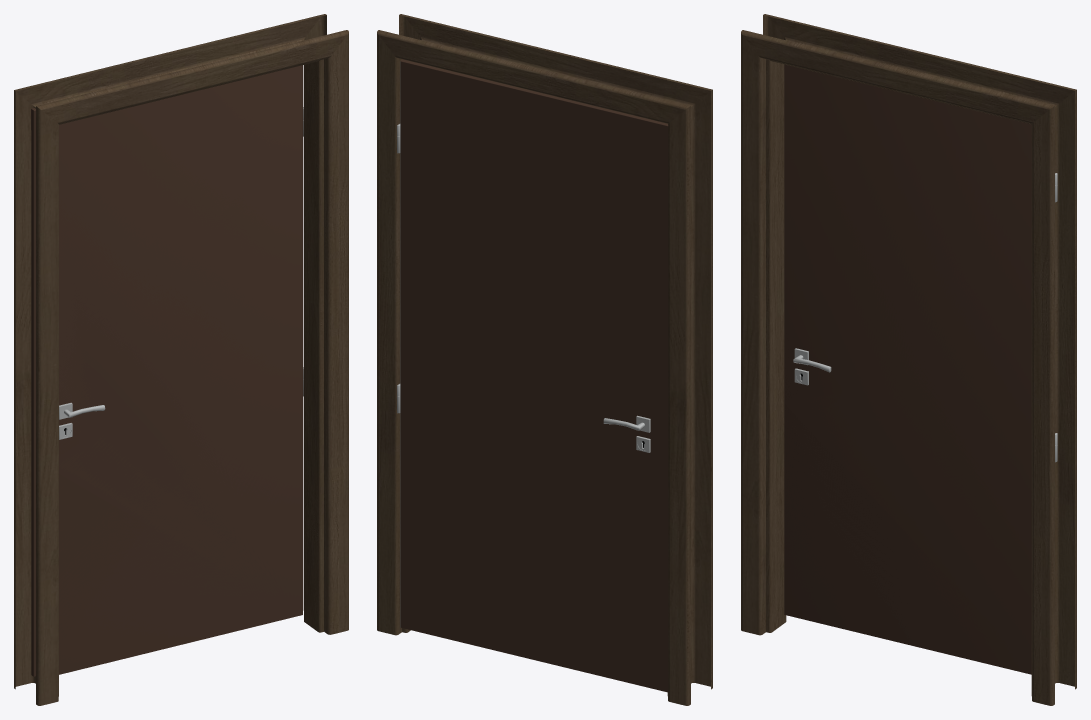
The model's file is Door.fbx.
3 views of the same model, side by side, from view 1: azimuth 30°, elevation 25°; view 2: azimuth 150°, elevation 25°; view 3: azimuth 330°, elevation 25° (orthographic).
Visible parts, largest first — view 1: dvereCut, dvere, ram, dvereHandle; view 2: dvere, ram, dvereCut, dvereHandle; view 3: dvere, dvereCut, ram, dvereHandle.
Boxes of the visible parts, x1,y1,x2,y2 form: dvereCut: (31,65,303,676); dvere: (31,65,303,676); ram: (14,14,348,705); dvereHandle: (31,377,112,466); dvere: (397,59,668,692); ram: (377,14,712,705); dvereCut: (397,61,668,686); dvereHandle: (600,391,668,478); dvere: (784,64,1057,674); dvereCut: (784,64,1057,673); ram: (741,14,1076,705); dvereHandle: (784,326,850,412).
Bounding box in the file's own units: 1037 × 1901 × 188.
Materials: 5 (1 with a texture image).
